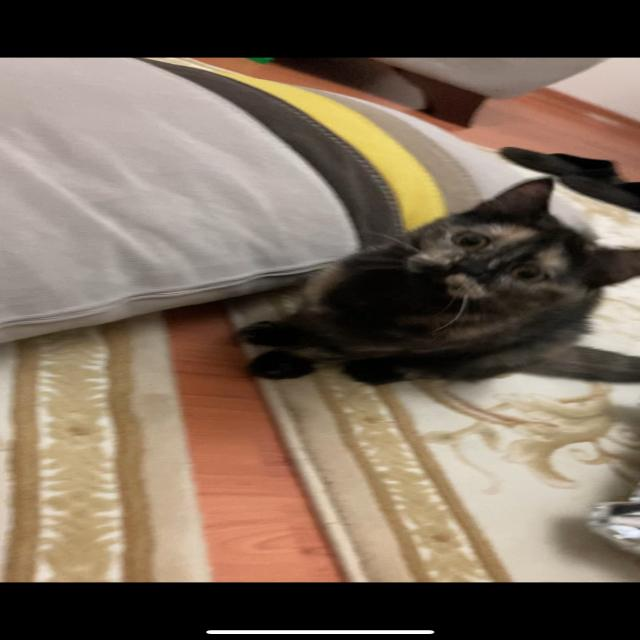authorized: (227, 176, 638, 386)
